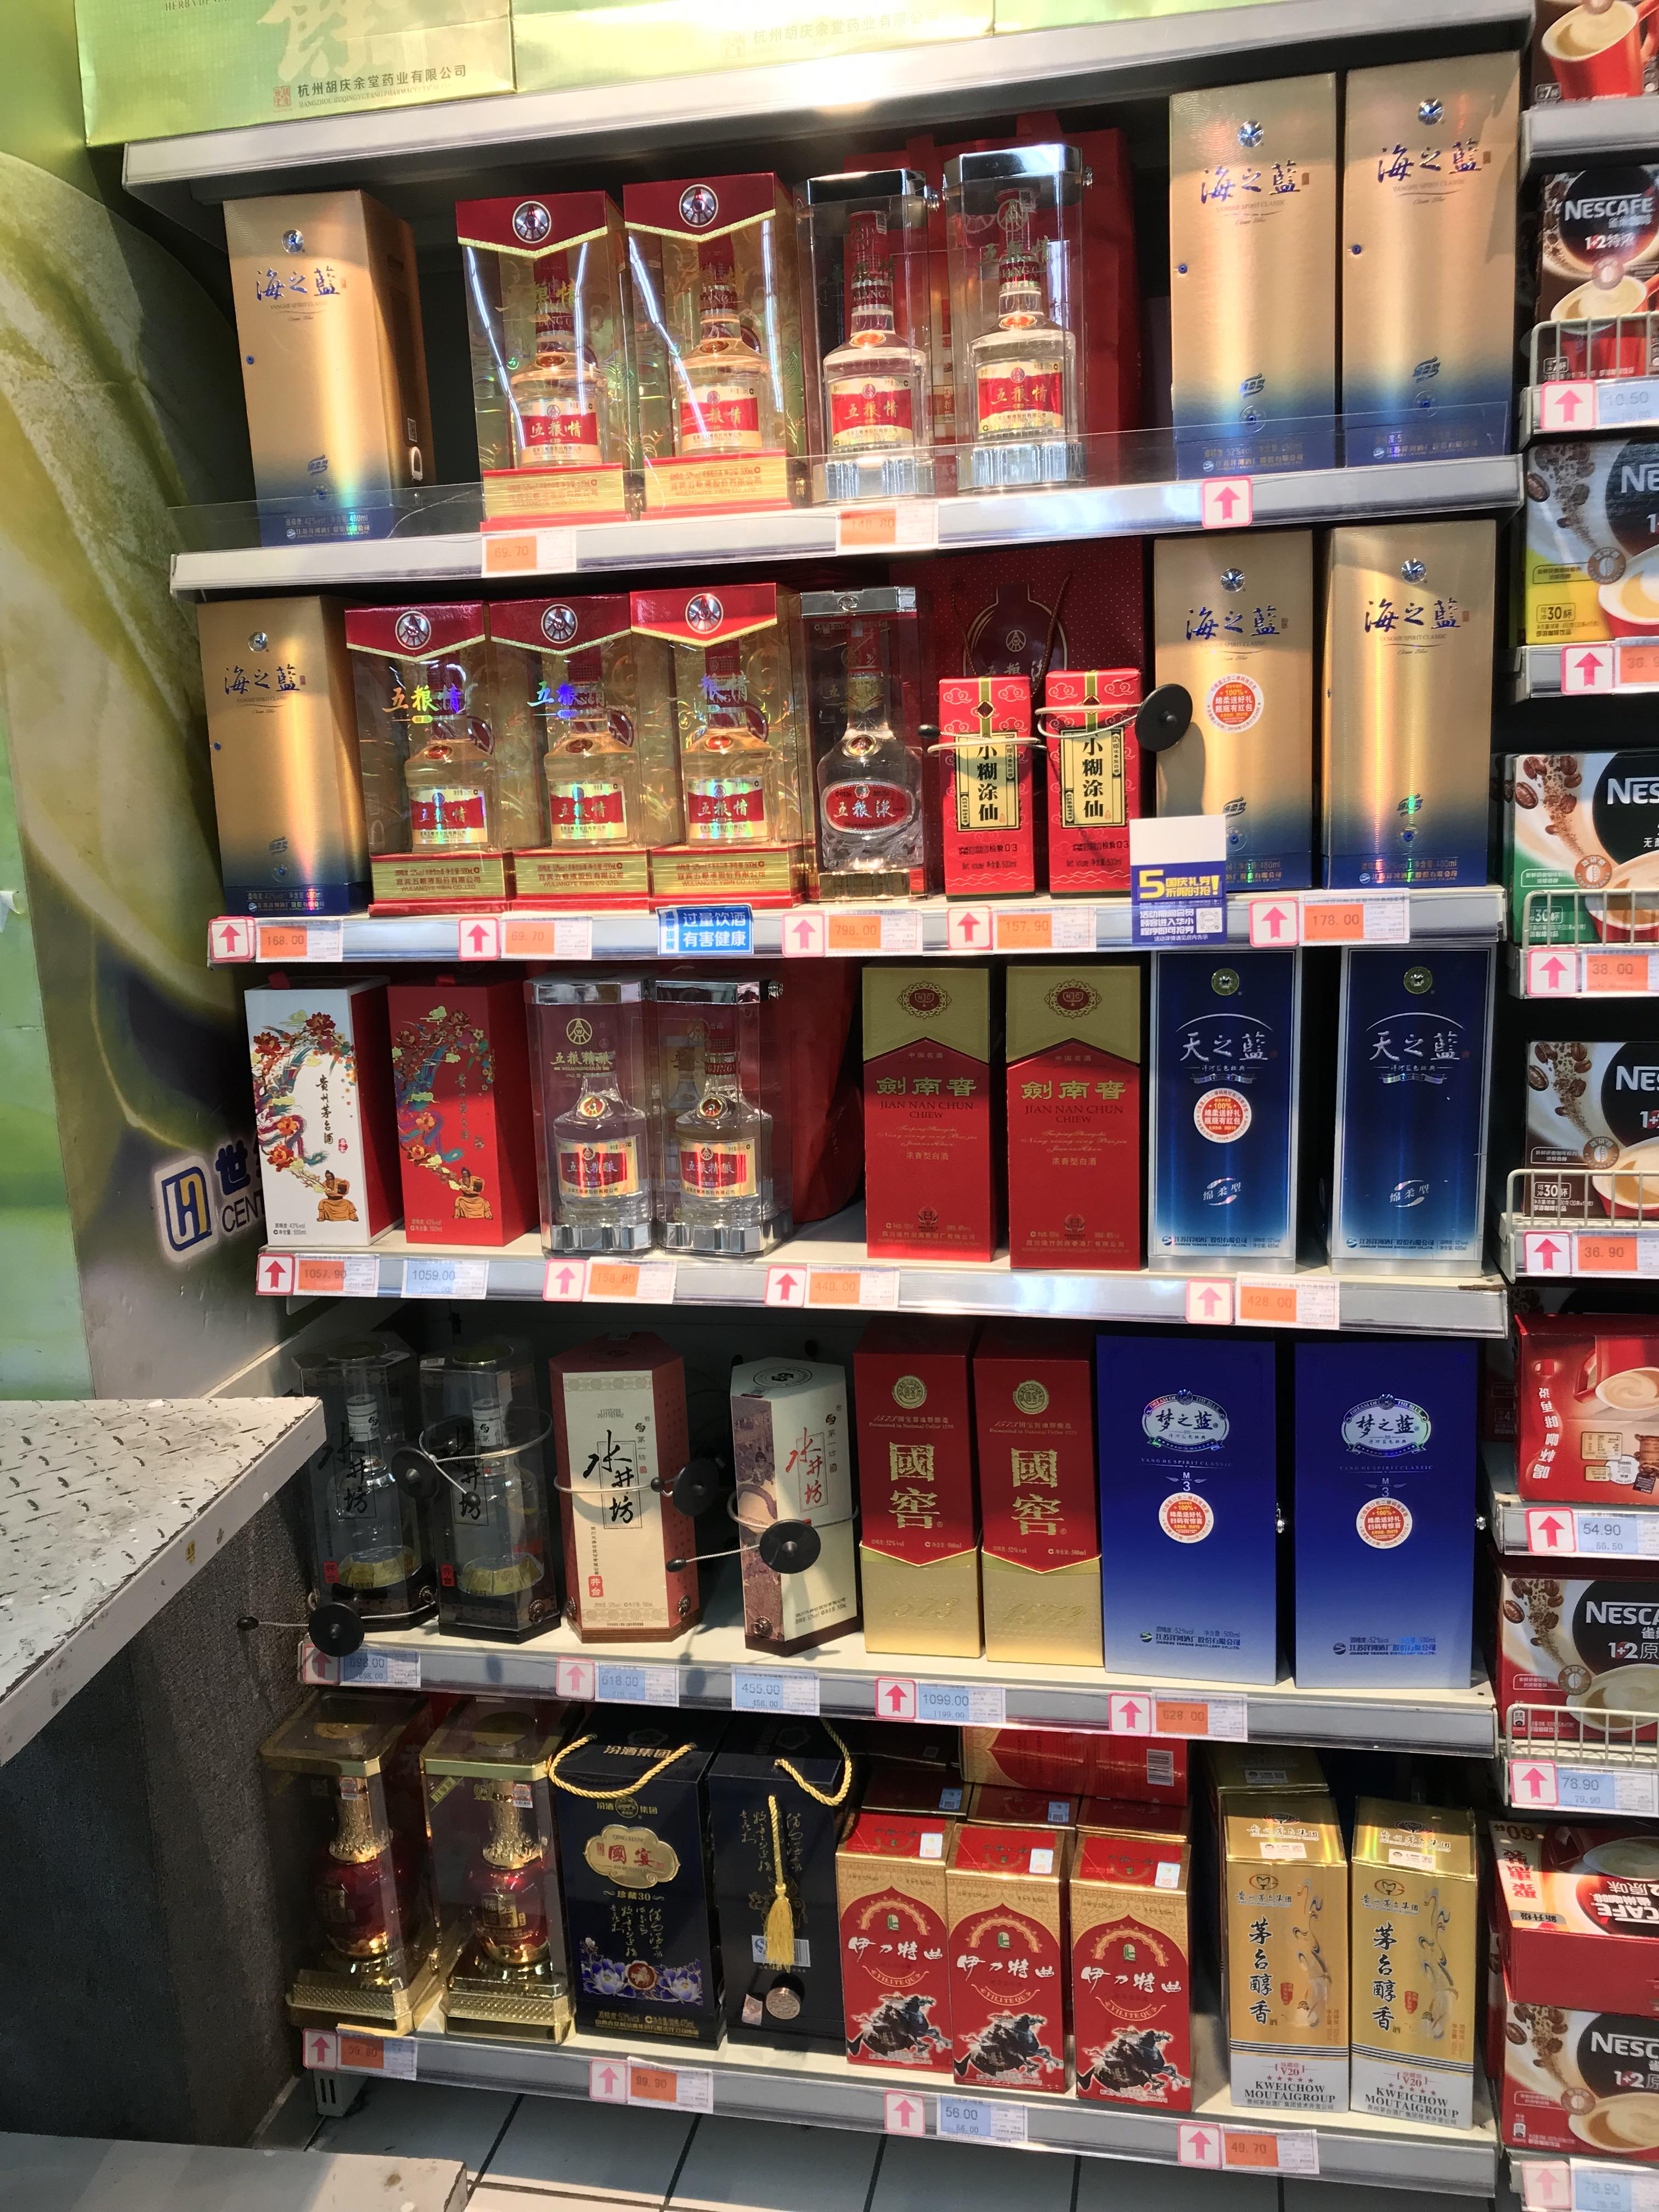bag: (455, 190, 631, 524), (1326, 927, 1486, 1278), (1497, 1818, 1657, 2163), (193, 594, 362, 913), (572, 1705, 721, 2054), (427, 1695, 573, 2047), (789, 583, 929, 902), (643, 977, 795, 1261), (1509, 1017, 1659, 1237), (1525, 143, 1659, 385), (1497, 1555, 1657, 1750), (1506, 749, 1659, 946), (1507, 437, 1659, 636), (932, 676, 1033, 906), (1044, 671, 1141, 899)
bottle: (1169, 73, 1337, 475), (1347, 56, 1509, 470), (1324, 523, 1488, 895), (261, 1686, 432, 2031), (1155, 535, 1314, 897), (720, 1714, 859, 2059), (1148, 949, 1297, 1270), (288, 1334, 434, 1634), (423, 1339, 554, 1646), (1068, 1825, 1204, 2114), (945, 1822, 1075, 2097), (833, 1813, 958, 2076)
box: (795, 167, 943, 503), (547, 1355, 699, 1646), (242, 972, 399, 1244), (1345, 1799, 1476, 2123), (385, 965, 532, 1251), (1215, 1794, 1347, 2109), (859, 1339, 981, 1670), (981, 1338, 1101, 1670), (730, 1353, 861, 1656), (533, 956, 657, 1258)
jar: (943, 143, 1082, 500)
others: (220, 186, 434, 545), (615, 176, 805, 514), (1295, 1327, 1471, 1689), (1105, 1325, 1277, 1681), (627, 582, 803, 907), (343, 603, 507, 909), (507, 599, 664, 906), (1000, 963, 1140, 1270), (859, 956, 997, 1263), (1513, 1322, 1659, 1512), (1528, 2, 1659, 108)
